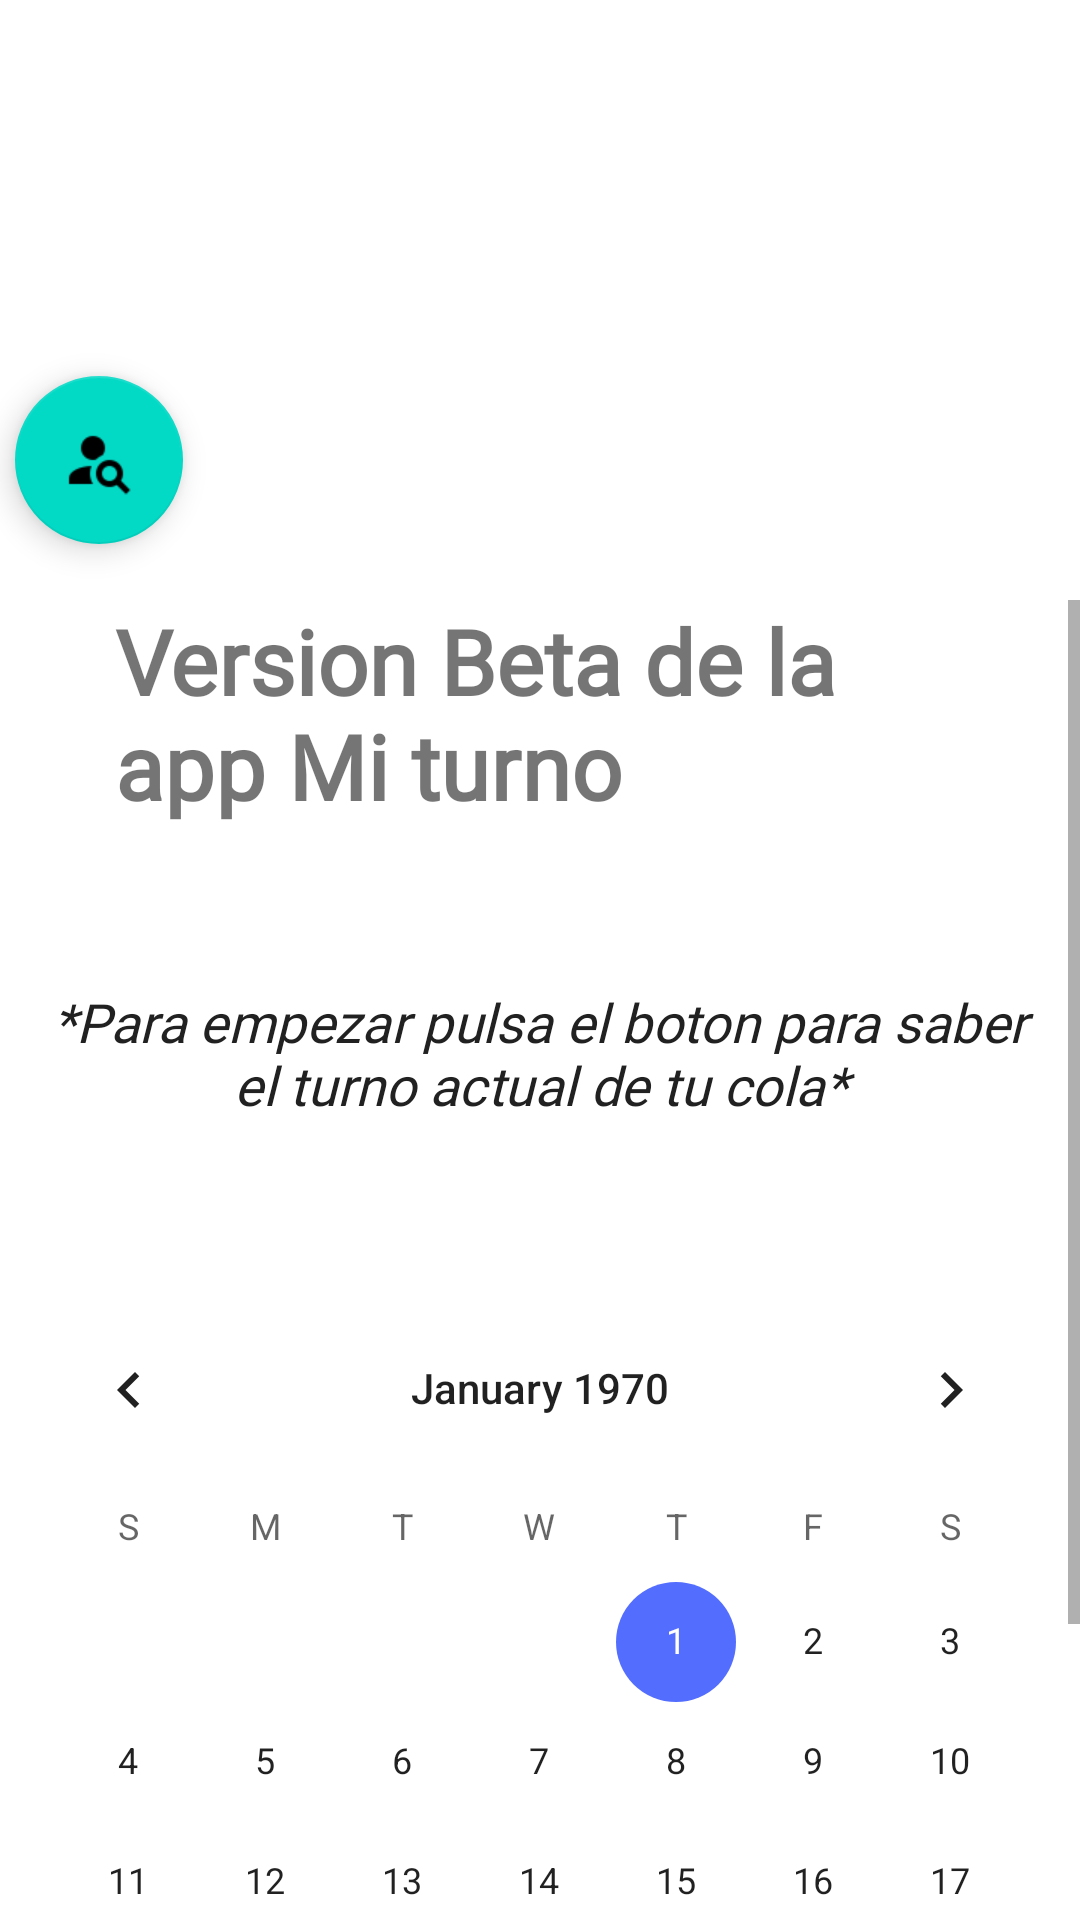

Icons on this 1080w x 1920h Android screen, each with its box as {"x1": x1, "y1": y1, "x2": x2, "y2": y2}:
accountsearch: {"x1": 15, "y1": 376, "x2": 183, "y2": 544}
